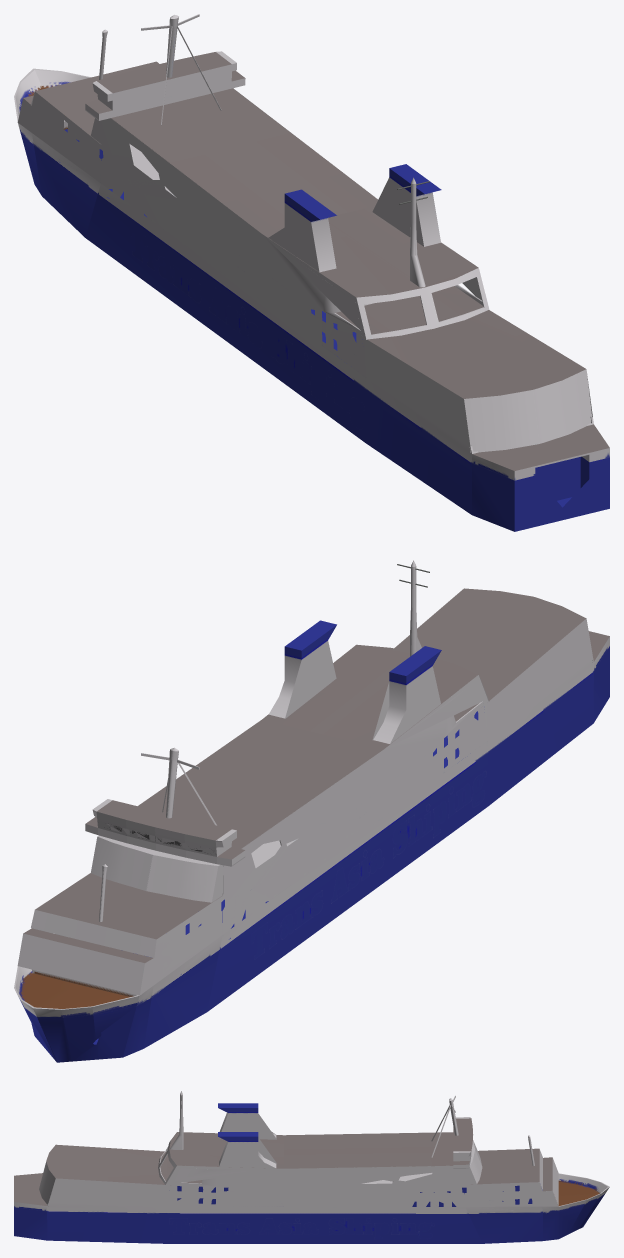
Rendered from Trans Asia 9.fbx.
3 renders of one model, top to bottom at view 1: azimuth 30°, elevation 25°; view 2: azimuth 150°, elevation 25°; view 3: azimuth 270°, elevation 25°, orthographic. The views are drawn at different scales.
Parts seen in each view (by area): view 1: node_id70 (×3); view 2: node_id70 (×4); view 3: node_id70 (×4).
Boxes of the visible parts, box(x1,y1,x2,y2) form: node_id70 (×3): box(14, 14, 609, 531); node_id70 (×4): box(14, 560, 609, 1062); node_id70 (×4): box(14, 1091, 609, 1243).
Size of the model in its own units: 0.0576 by 0.0906 by 0.36.
Materials: 6 (3 with a texture image).
